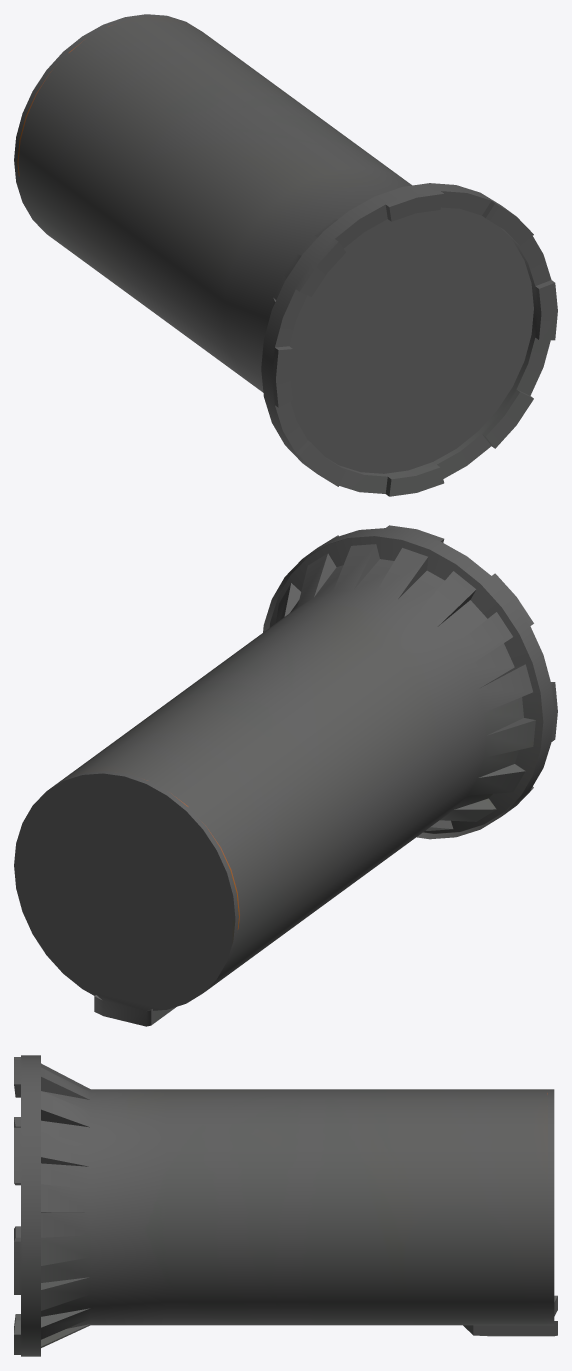
Rendered from tower.fbx.
The picture shows the model from 3 angles, top to bottom: view 1: azimuth 30°, elevation 25°; view 2: azimuth 150°, elevation 25°; view 3: azimuth 270°, elevation 25°; orthographic projection. The views are drawn at different scales.
Parts seen in each view (by area): view 1: Cylinder; view 2: Cylinder; view 3: Cylinder.
Boxes of the visible parts, x1,y1,x2,y2 form: Cylinder: (14, 14, 557, 496); Cylinder: (14, 525, 557, 1026); Cylinder: (14, 1055, 557, 1356).
Bounding box in the file's own units: 281 × 281 × 507.
Materials: 1 (1 with a texture image).
